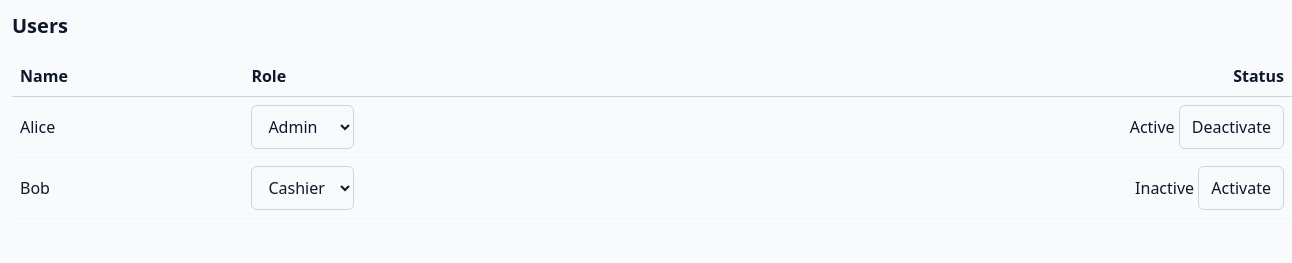
Test: UsersPage › toggles status to inactive and shows success in English
expect the text "Alice" is shown: met, box [20, 116, 55, 138]
Click the button with aria-label "Alice Deactivate". click: (1231, 127)
box: [1179, 105, 1284, 149]
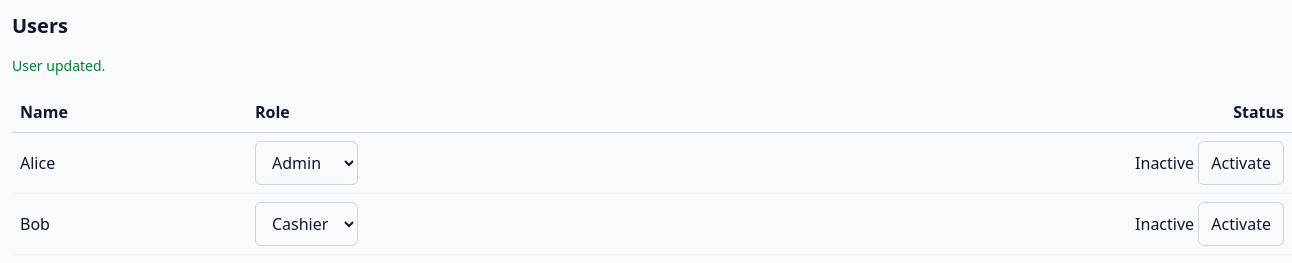
expect the text "User updated." is shown: met, box [12, 56, 105, 75]
